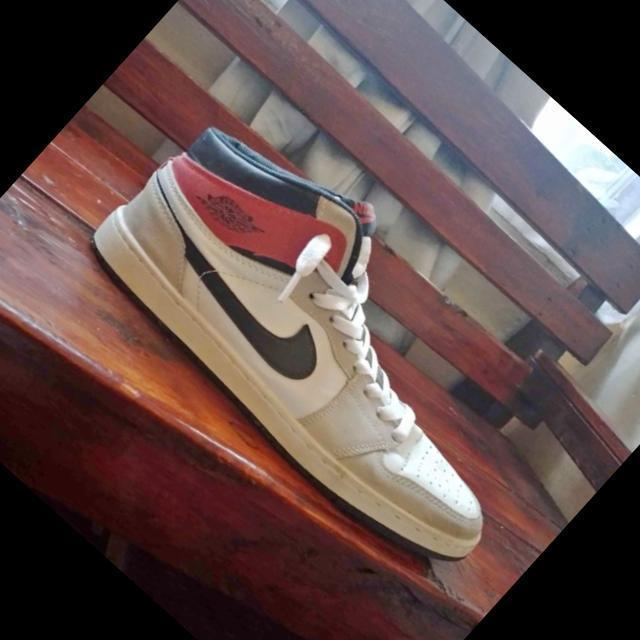nike fake jordan 1: (66, 79, 604, 598)
